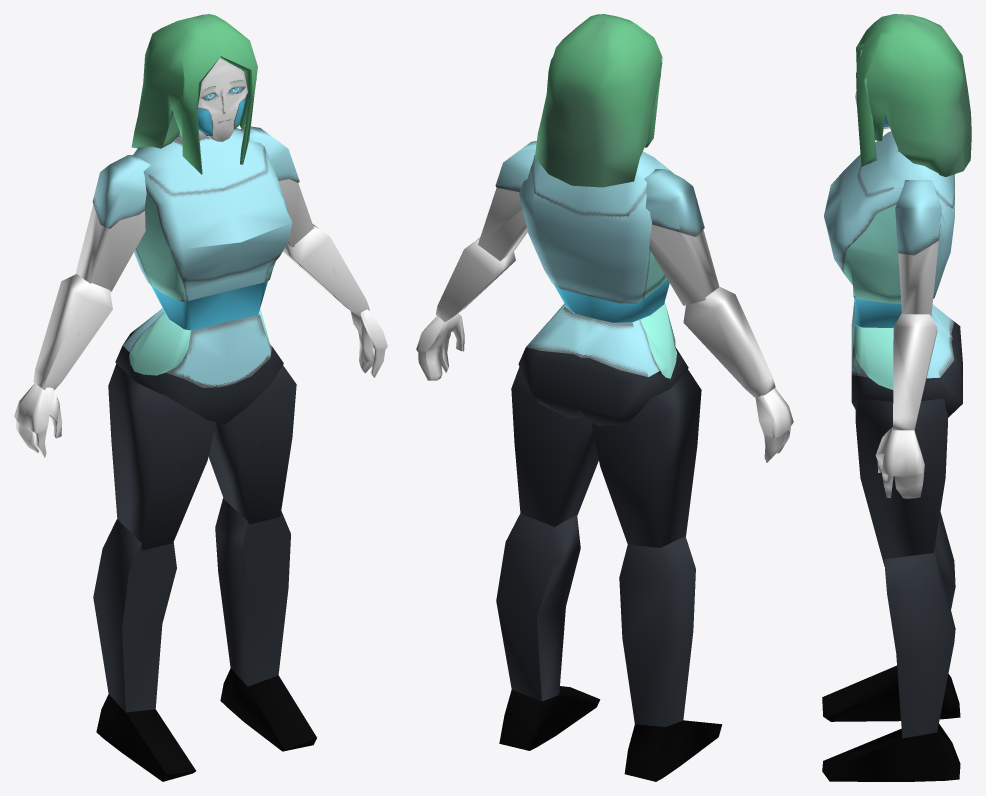
Rendered from womanvitrania1.glb.
3 renders of one model, left to right at view 1: azimuth 30°, elevation 25°; view 2: azimuth 150°, elevation 25°; view 3: azimuth 270°, elevation 25°, orthographic.
Visible parts, largest first — view 1: woman; view 2: woman; view 3: woman.
Boxes of the visible parts, x1,y1,x2,y2 form: woman: (14,14,387,781); woman: (416,14,793,781); woman: (822,14,971,781).
Size of the model in its own units: 0.8817 by 1.7 by 0.3175.
Materials: 1 (1 with a texture image).
